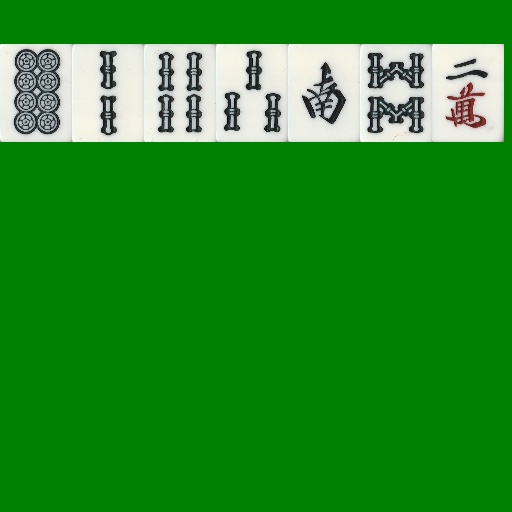2m: (432, 44, 504, 142)
2s: (72, 44, 144, 142)
3s: (216, 44, 288, 142)
4s: (144, 44, 216, 142)
8p: (0, 44, 72, 142)
8s: (360, 44, 432, 142)
south: (288, 44, 360, 142)
